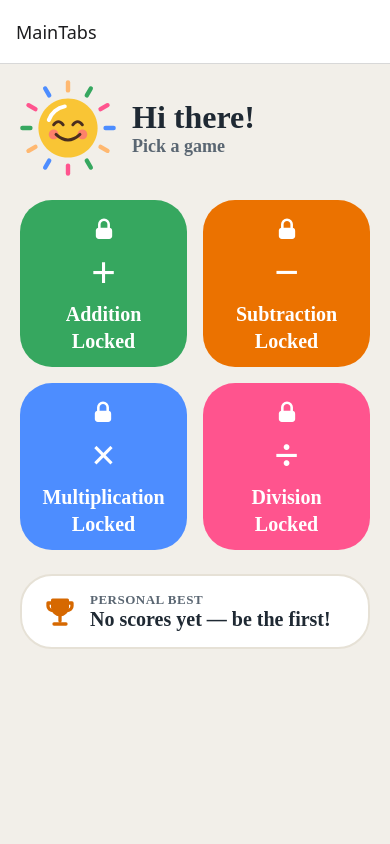
Test: HomeScreen › shows the parental gate, then the unlock modal, for a locked operation
Click the text "×": (104, 456) [91, 430, 116, 482]
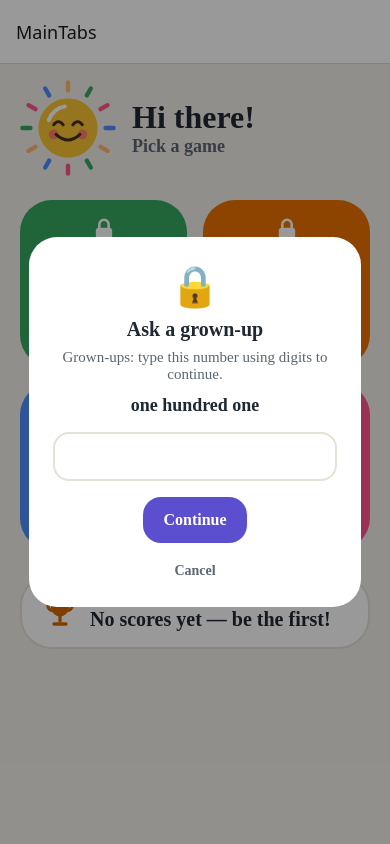
Check: the text "Unlock All Operations" is not shown
Check: the text "Ask a grown-up" is shown, box [127, 318, 263, 341]
In the field with test id "parental-gate-input": (195, 456) [53, 432, 337, 481], type "101"
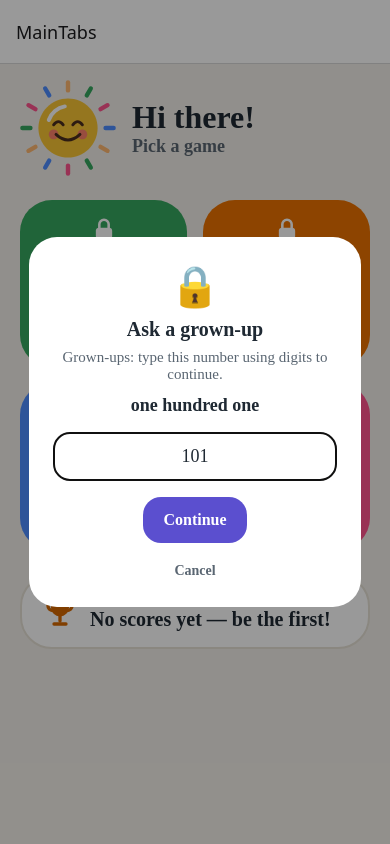
Click the button with test id "parental-gate-submit": (195, 520) [143, 497, 246, 543]
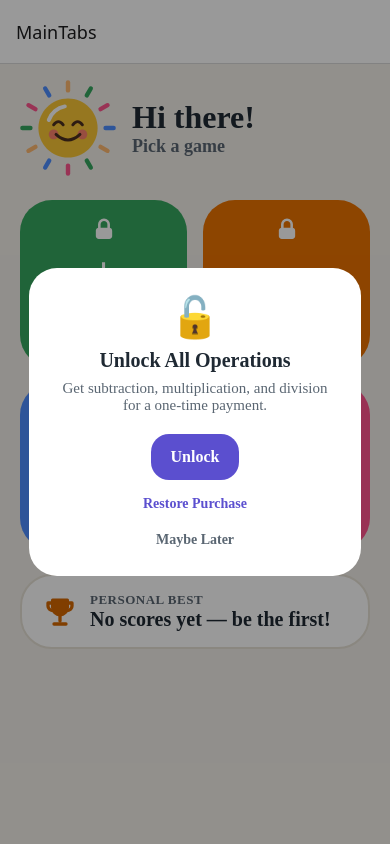
Check: the text "Unlock All Operations" is shown, box [99, 349, 290, 372]
